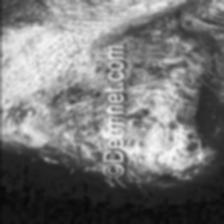Unclassified: (154, 164, 180, 185)
